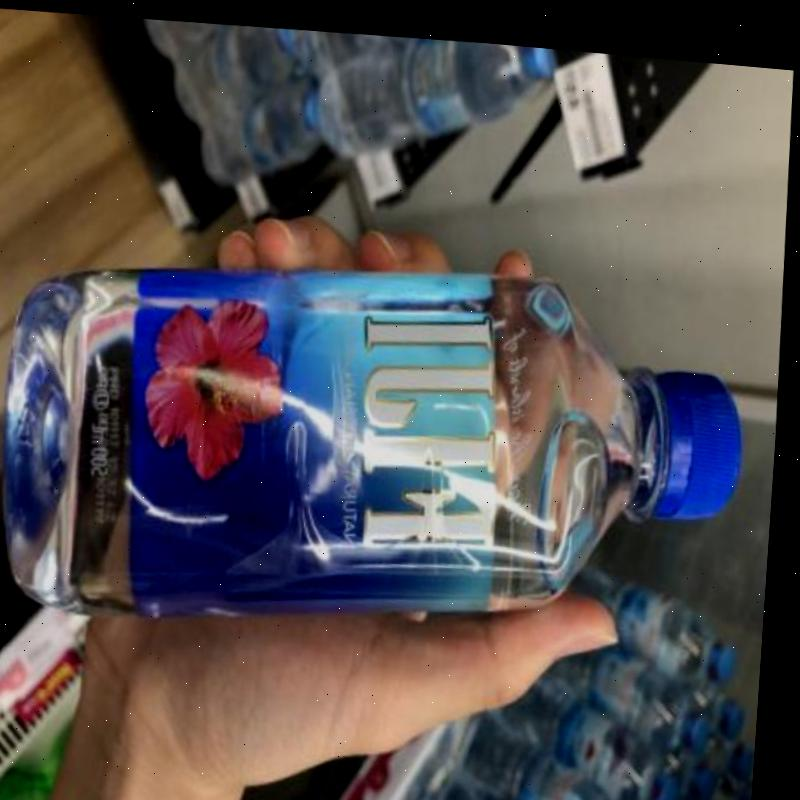botella: (0, 225, 759, 656), (316, 23, 559, 163), (490, 649, 693, 800), (565, 548, 748, 672), (465, 702, 659, 800), (563, 627, 720, 742), (190, 83, 323, 185), (168, 14, 311, 106), (415, 740, 562, 800), (698, 664, 758, 732), (674, 726, 724, 794), (719, 718, 765, 772), (692, 790, 736, 800), (644, 794, 696, 800)
